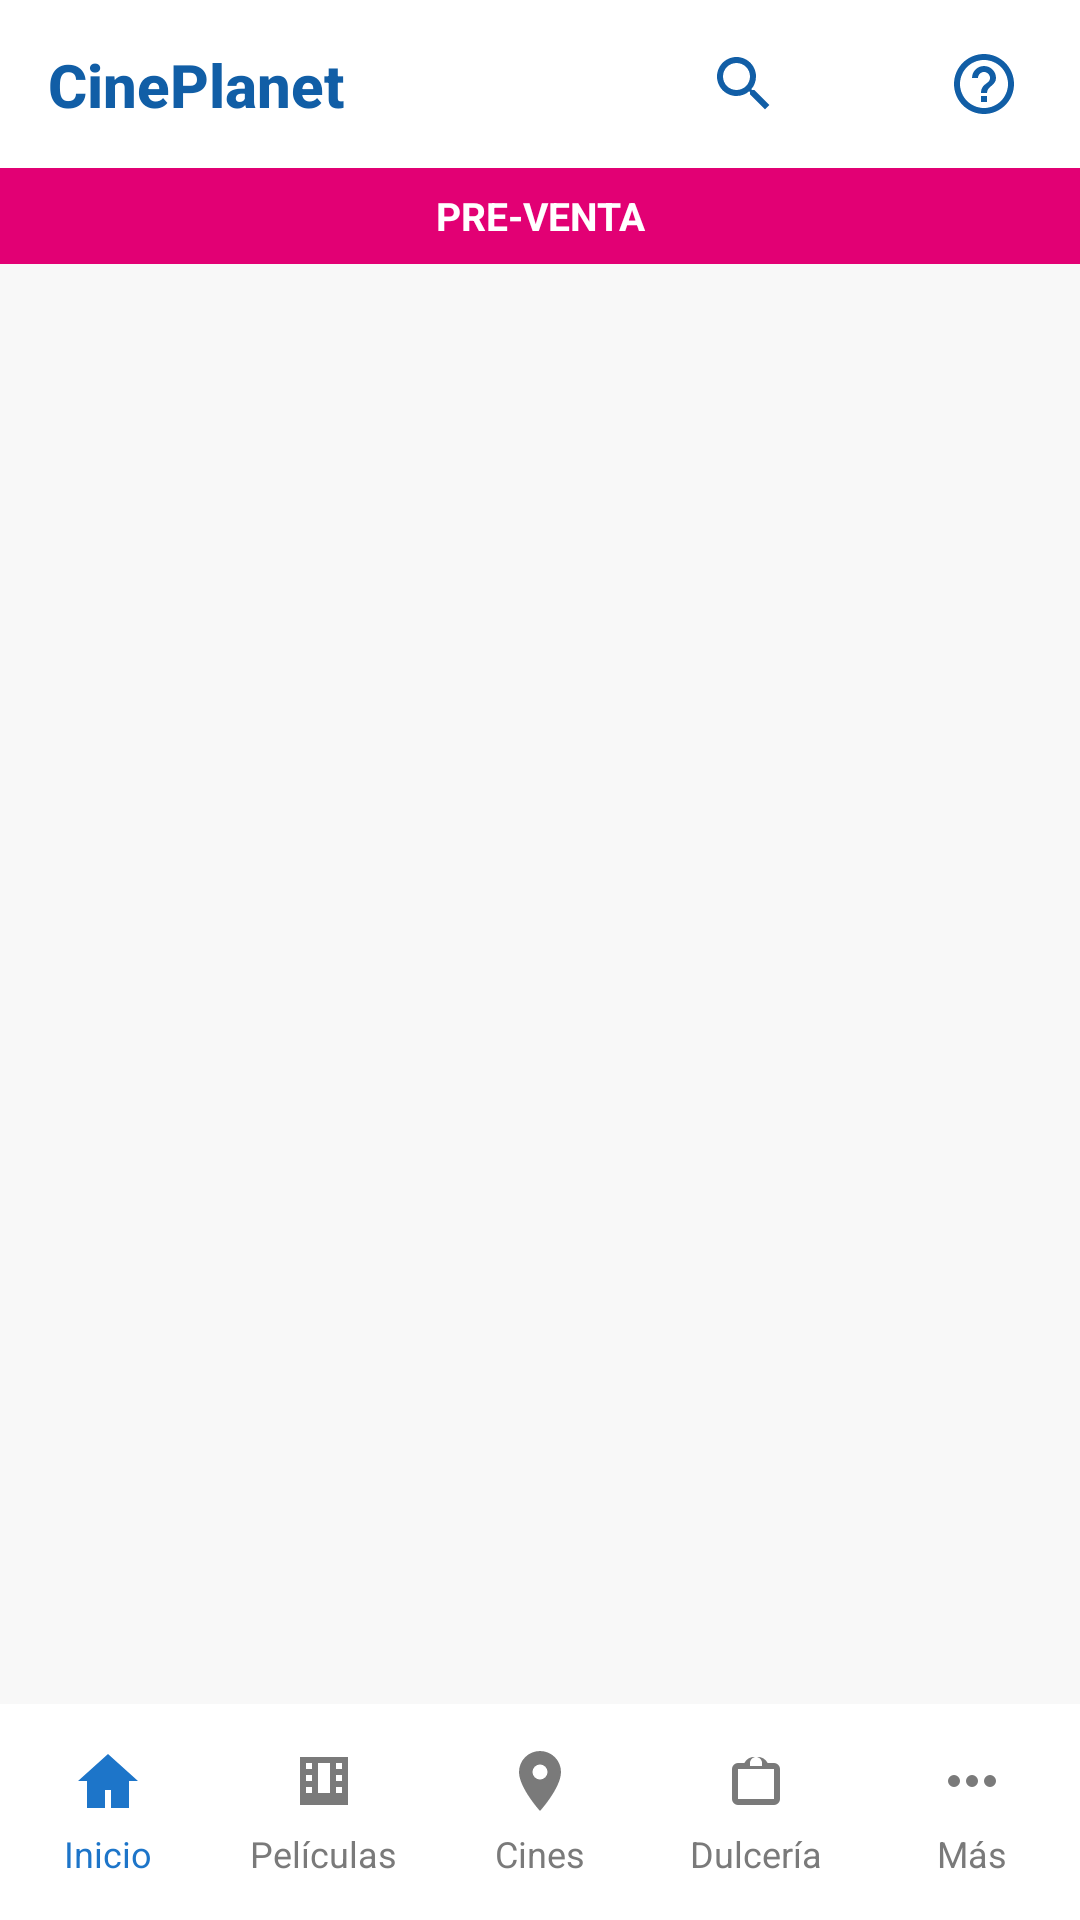

Icon bounding boxes for this 1080x1920 phone screenshot, format (x1, y1, x2, y2):
Ayuda: (954, 54, 1014, 114)
bag: (732, 1757, 780, 1805)
Buscar: (717, 57, 769, 109)
location: (519, 1751, 561, 1811)
